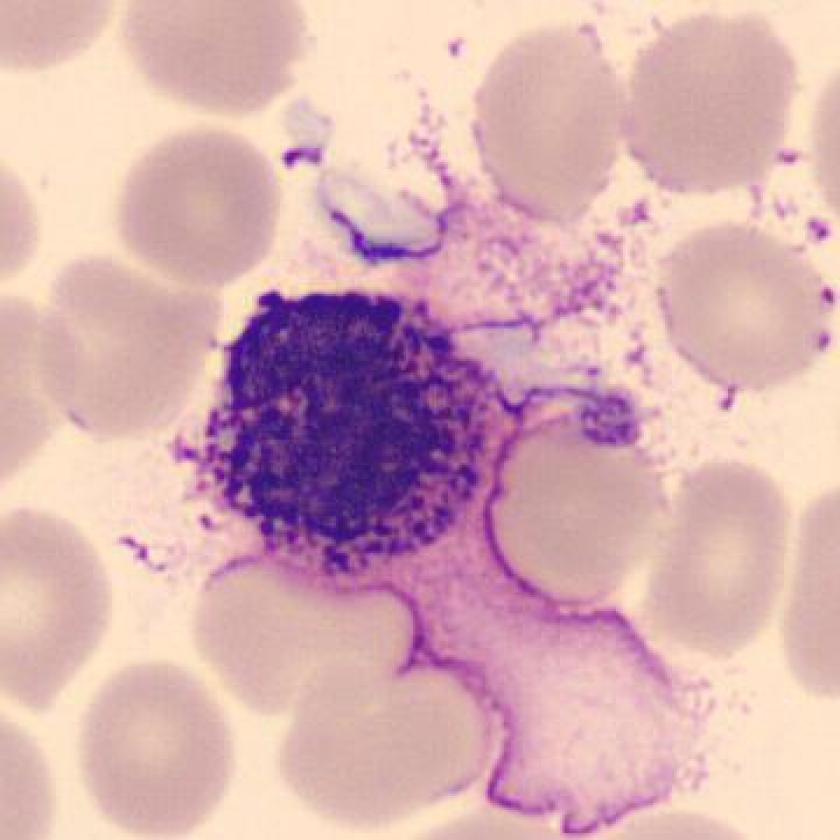basophil: (197, 286, 510, 575)
